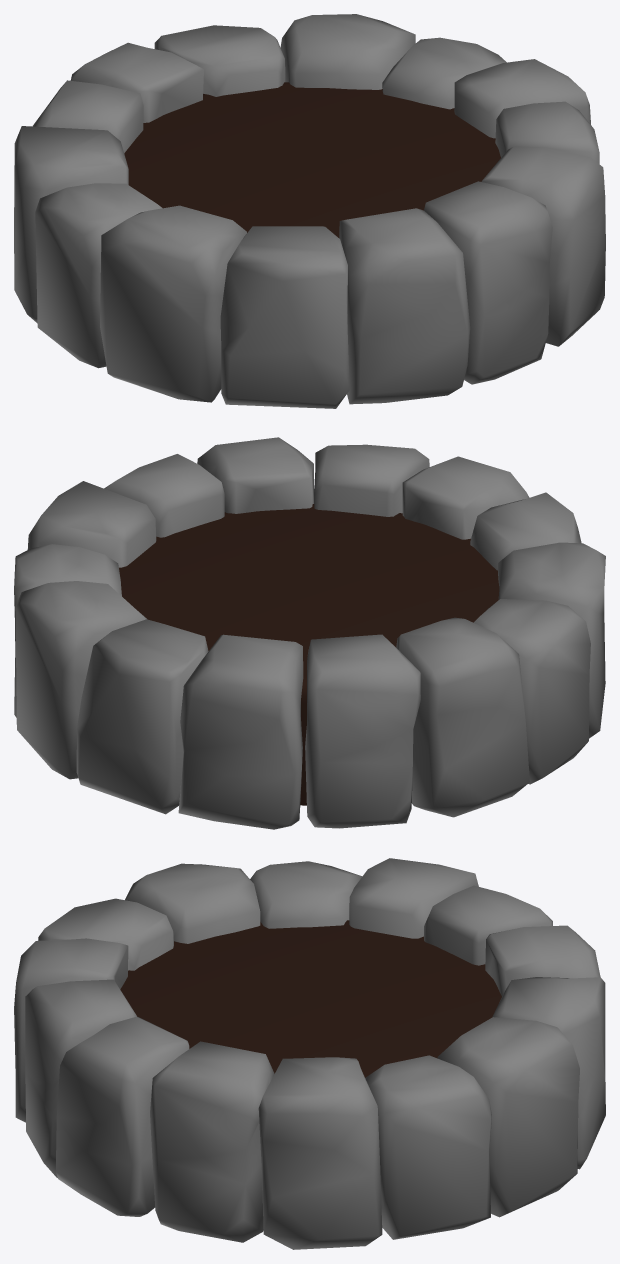
Rendered from SM_flowerbed_04.fbx.
3 renders of one model, top to bottom at view 1: azimuth 30°, elevation 25°; view 2: azimuth 150°, elevation 25°; view 3: azimuth 270°, elevation 25°, orthographic.
Visible parts, largest first — view 1: Object342706; view 2: Object342706; view 3: Object342706.
Boxes of the visible parts, x1,y1,x2,y2 form: Object342706: [14, 14, 605, 408]; Object342706: [14, 437, 605, 829]; Object342706: [14, 858, 605, 1249].
Size of the model in its own units: 63.68 by 19.45 by 63.47.
